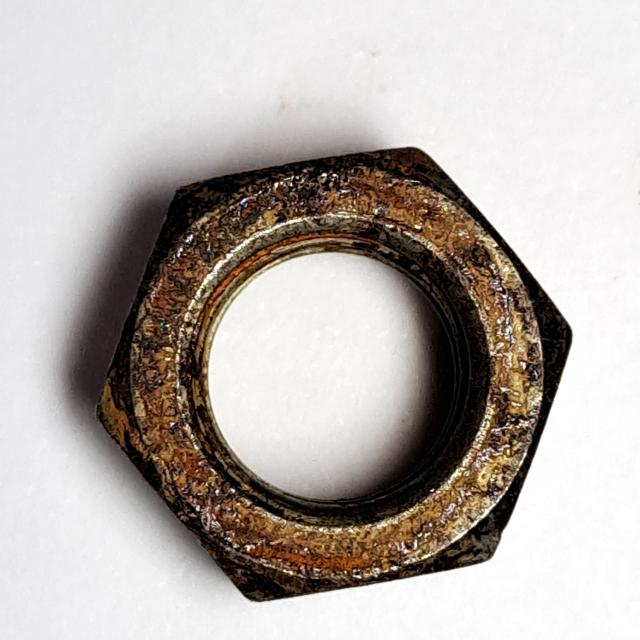Rust: (83, 137, 586, 622)
